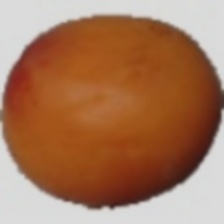apricot: (18, 12, 186, 196)
